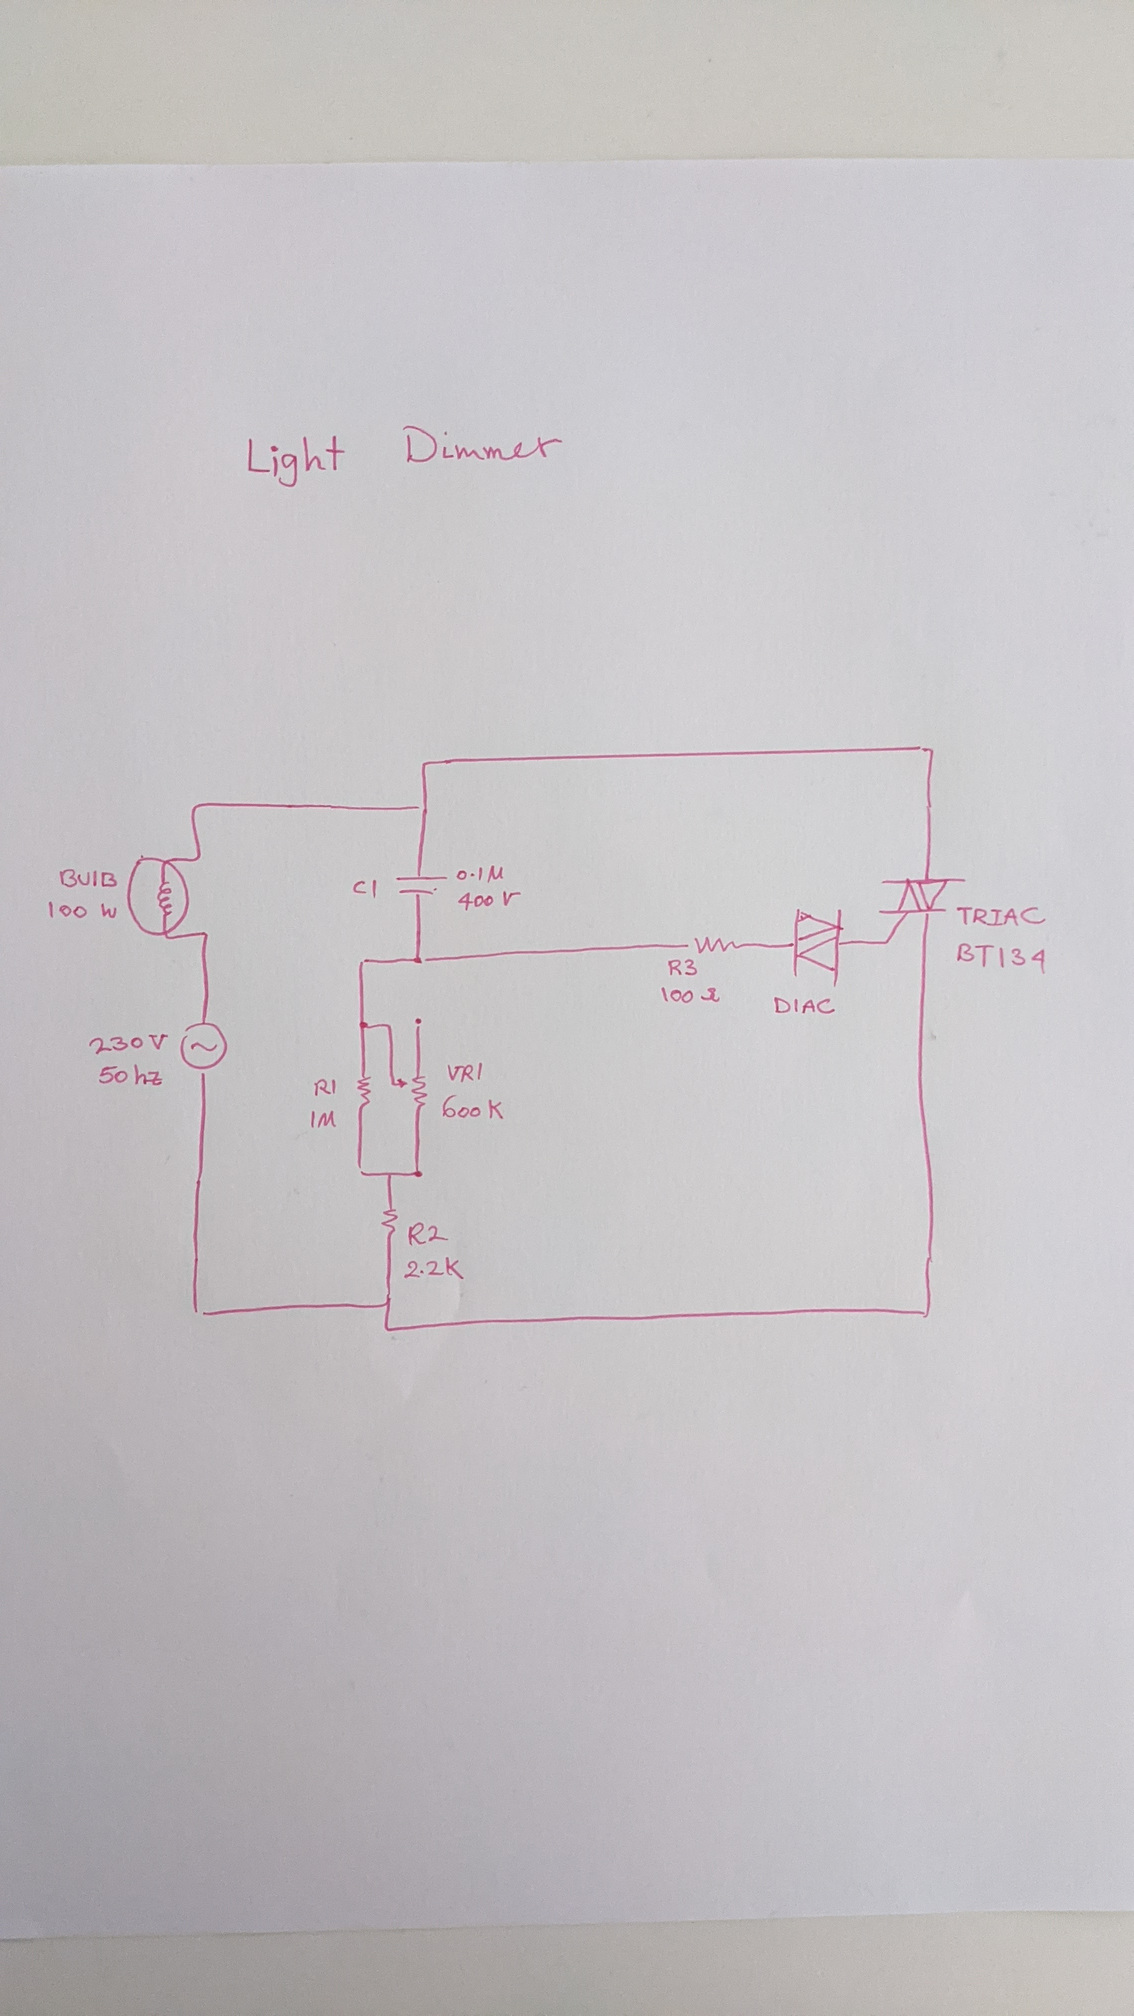capacitor.unpolarized: (393, 872, 450, 899)
diac: (791, 901, 846, 989)
junction: (188, 800, 206, 818), (917, 742, 937, 757), (414, 800, 433, 816), (191, 1304, 209, 1320), (411, 953, 429, 966), (356, 955, 372, 969), (356, 1019, 372, 1033), (919, 1306, 933, 1321), (354, 1164, 368, 1178), (381, 1295, 395, 1308), (413, 1015, 425, 1030), (418, 757, 433, 770), (411, 1167, 425, 1180), (381, 1324, 395, 1336), (881, 935, 893, 948), (199, 928, 212, 940), (384, 1169, 395, 1181), (192, 852, 205, 863), (382, 1020, 395, 1032)
lamp: (125, 853, 192, 943)
resistor: (685, 935, 744, 957), (379, 1203, 402, 1242), (354, 1072, 375, 1112)
resistor.adjustable: (388, 1070, 431, 1108)
text: (244, 422, 566, 490), (953, 940, 1050, 978), (954, 901, 1050, 929), (86, 1032, 170, 1056), (439, 1092, 505, 1122), (96, 1062, 168, 1088), (402, 1254, 467, 1282), (44, 899, 119, 922), (454, 889, 523, 912), (57, 865, 119, 890), (770, 994, 839, 1016), (659, 983, 724, 1005), (406, 1218, 451, 1248), (456, 864, 505, 883), (444, 1061, 486, 1083), (666, 955, 701, 978), (307, 1108, 339, 1131), (352, 876, 379, 900), (312, 1076, 336, 1098)
triac: (876, 876, 968, 933)
voltage.dc_ac: (177, 1019, 230, 1076)
